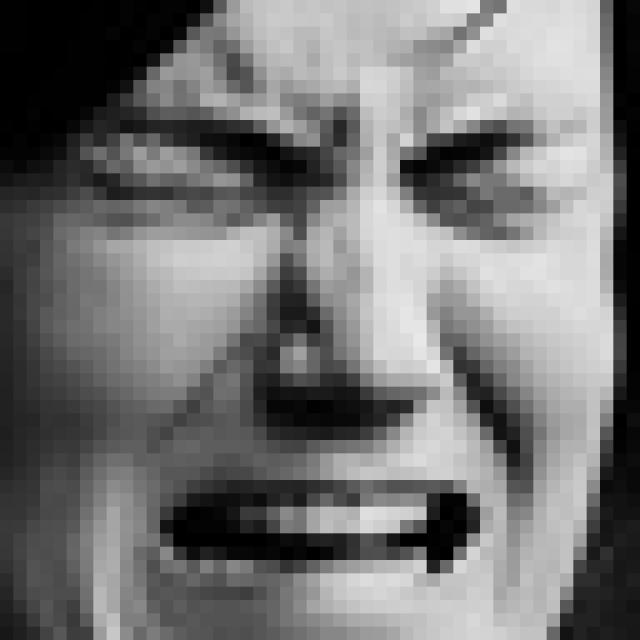disgust: (54, 43, 586, 622)
